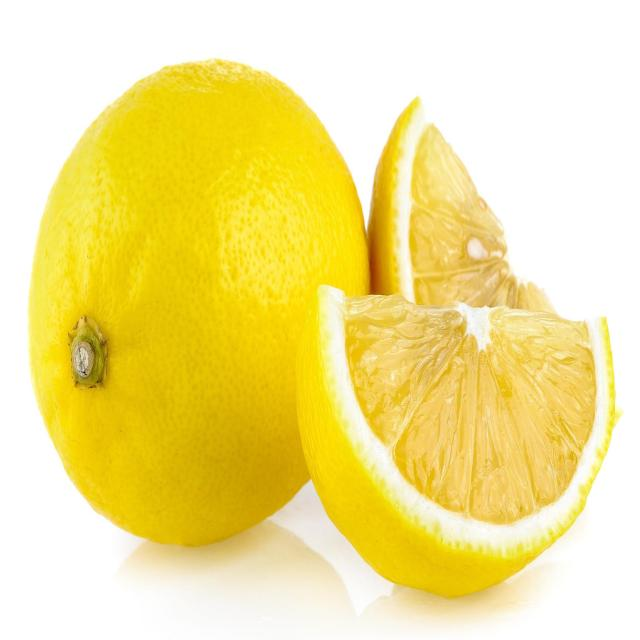lemon: (22, 46, 376, 550), (287, 274, 621, 607)
